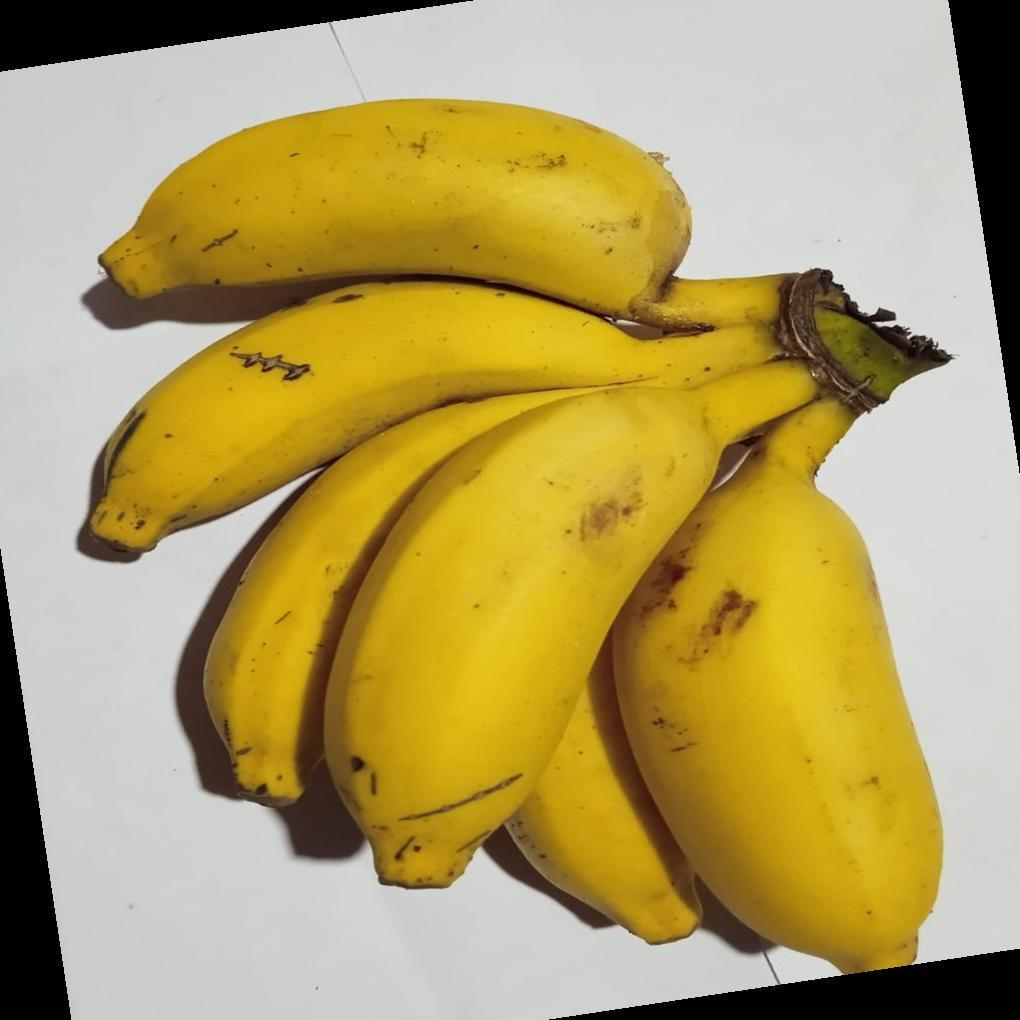Banana Ripe: (63, 84, 959, 1020)
